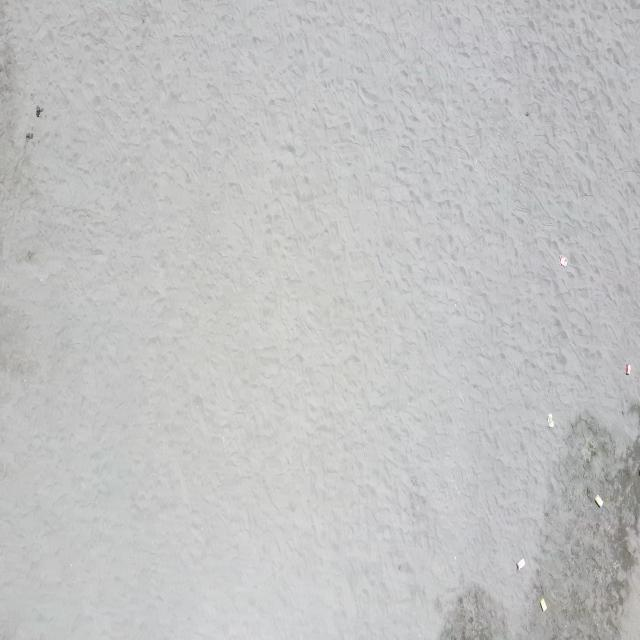Garbage: (593, 495, 602, 507), (540, 597, 546, 611), (517, 557, 524, 568), (560, 255, 567, 266), (547, 412, 552, 427), (624, 363, 630, 373)
